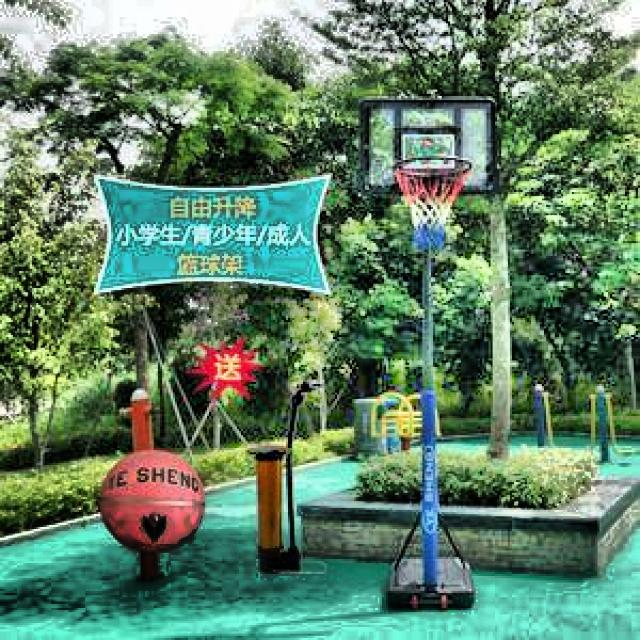rim: (394, 154, 472, 252)
